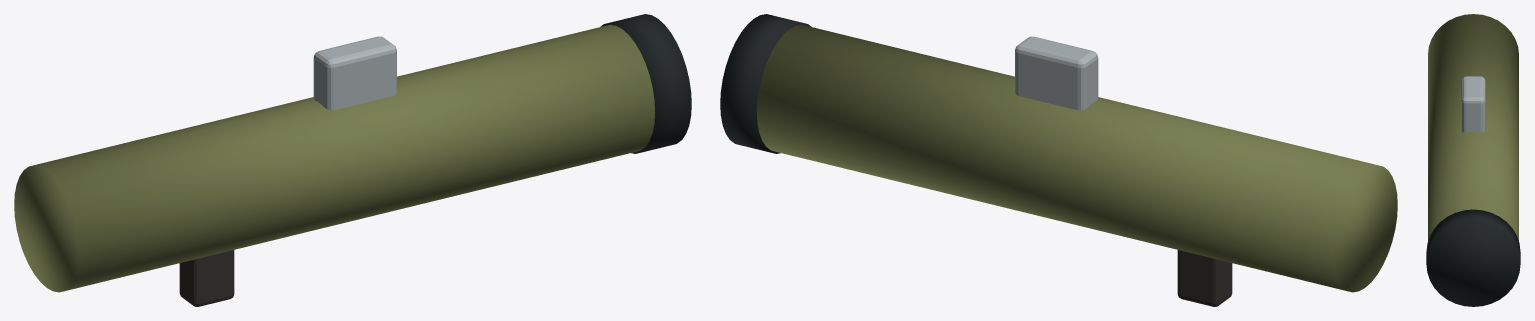
Rendered from SM_Launcher.fbx.
The picture shows the model from 3 angles, left to right: view 1: azimuth 30°, elevation 25°; view 2: azimuth 150°, elevation 25°; view 3: azimuth 270°, elevation 25°; orthographic projection. The views are drawn at different scales.
Parts seen in each view (by area): view 1: SM_Launcher; view 2: SM_Launcher; view 3: SM_Launcher.
Part boxes in pixels (x1,y1,x2,y2): SM_Launcher: (14,14,691,306); SM_Launcher: (720,14,1397,306); SM_Launcher: (1426,14,1520,306).
Bounding box in the file's own units: 103 × 19.6 × 34.5.
